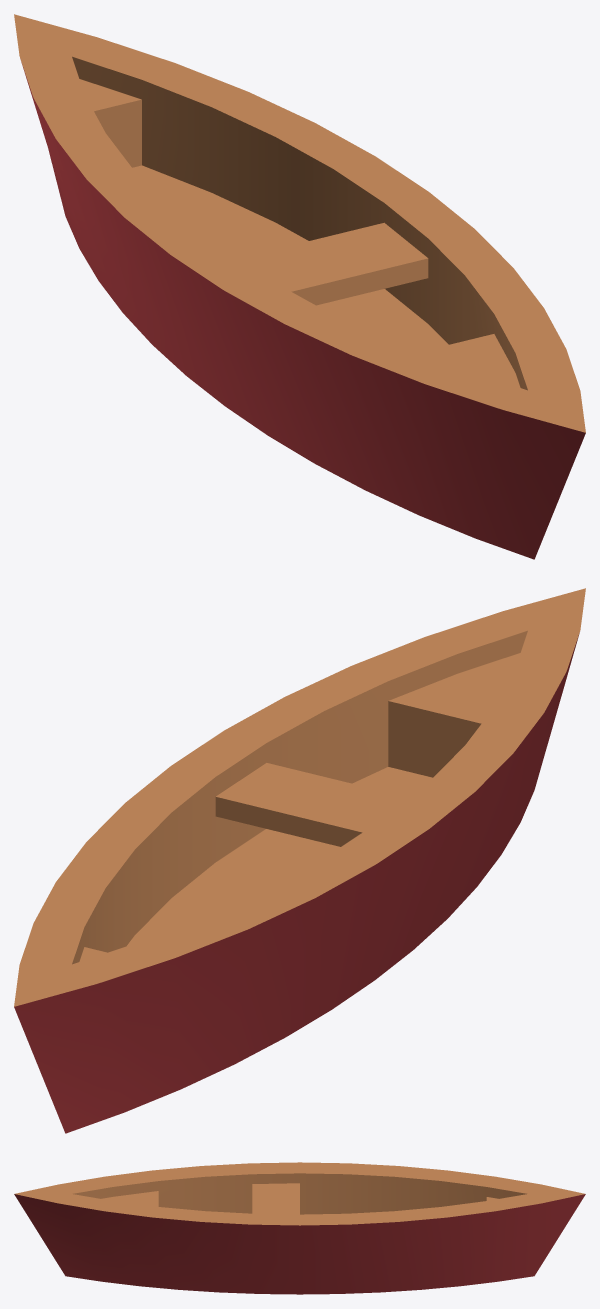
File: canoe.obj
The picture shows the model from 3 angles, top to bottom: view 1: azimuth 30°, elevation 25°; view 2: azimuth 150°, elevation 25°; view 3: azimuth 270°, elevation 25°; orthographic projection. The views are drawn at different scales.
Visible parts, largest first — view 1: canoe; view 2: canoe; view 3: canoe.
Boxes of the visible parts, box(x1,y1,x2,y2) form: canoe: box(14, 14, 585, 559); canoe: box(14, 588, 585, 1133); canoe: box(14, 1162, 585, 1294).
Size of the model in its own units: 3 by 1.83 by 11.5.
